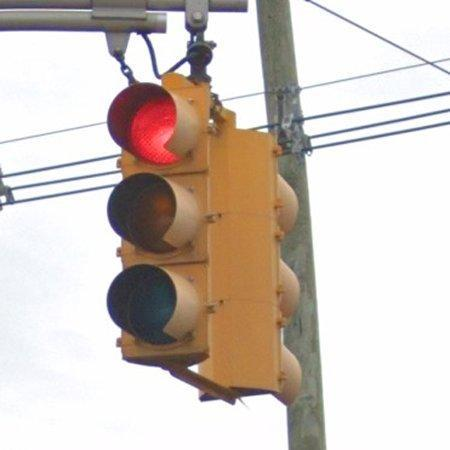traffic lights: (102, 72, 212, 368), (196, 126, 300, 407)
